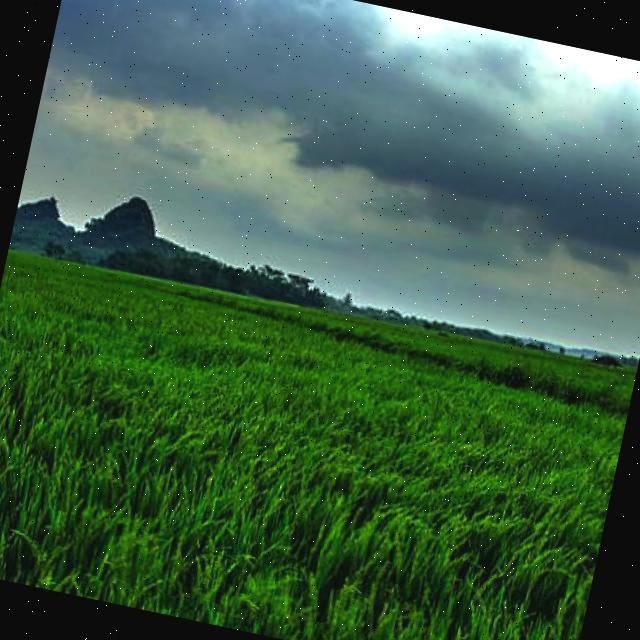Ns: (26, 1, 640, 298)
